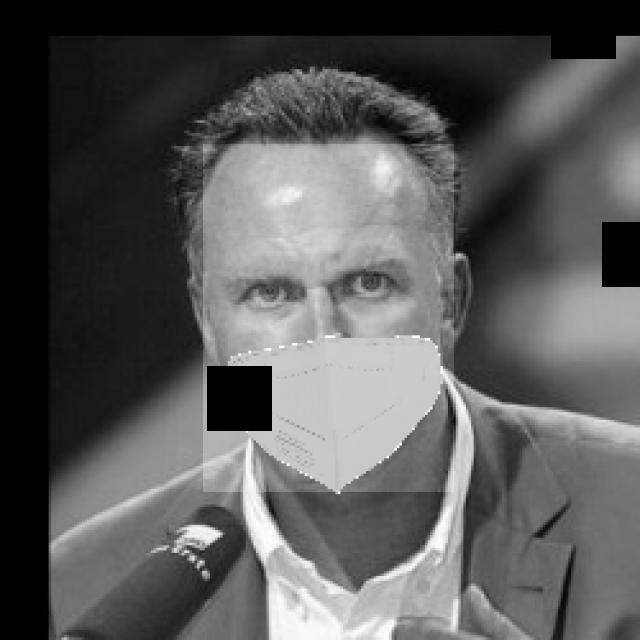kn95: (203, 144, 454, 492)
